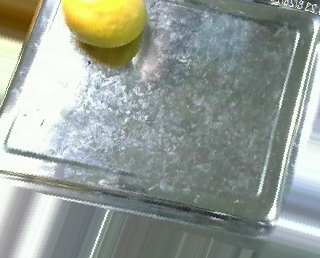Mango: (58, 2, 151, 48)
